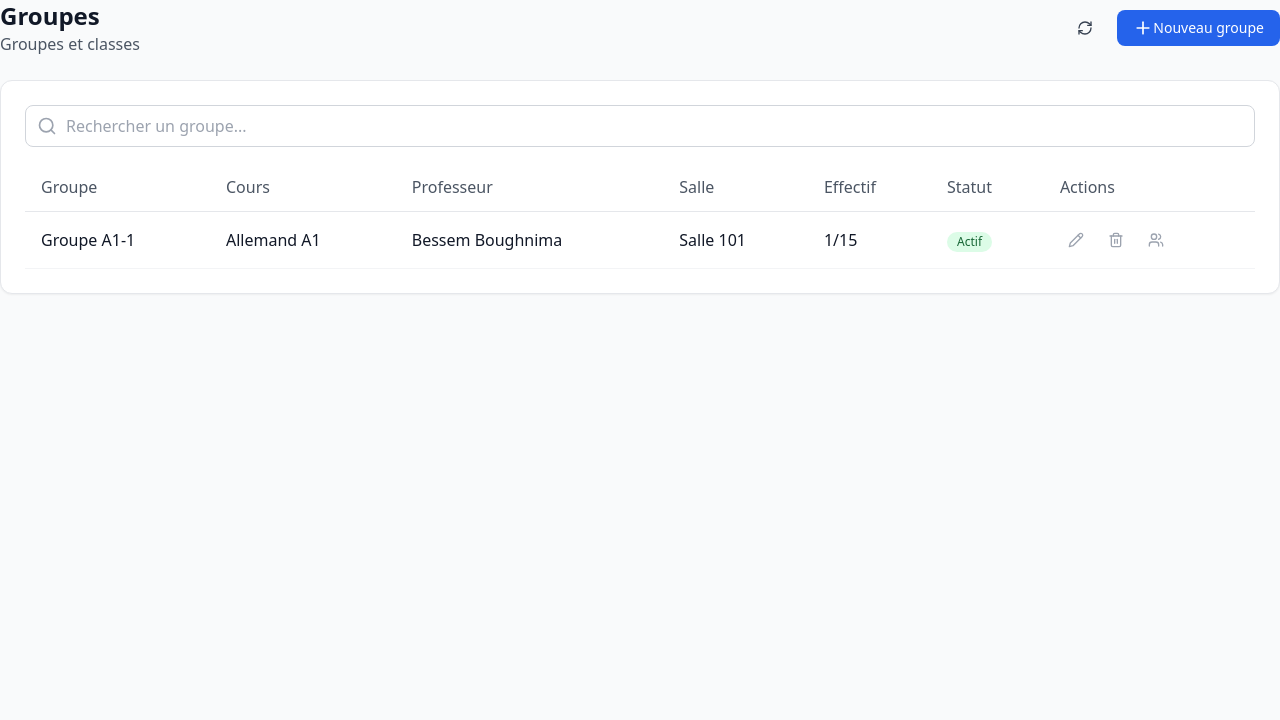
Test: Groups page — candidats du groupe › shows the server error when the group is full
The image size is (1280, 720).
Click the button named "Gérer les candidats du groupe Groupe A1-1" at (1156, 240), box x1=1140 y1=224 x2=1172 y2=256
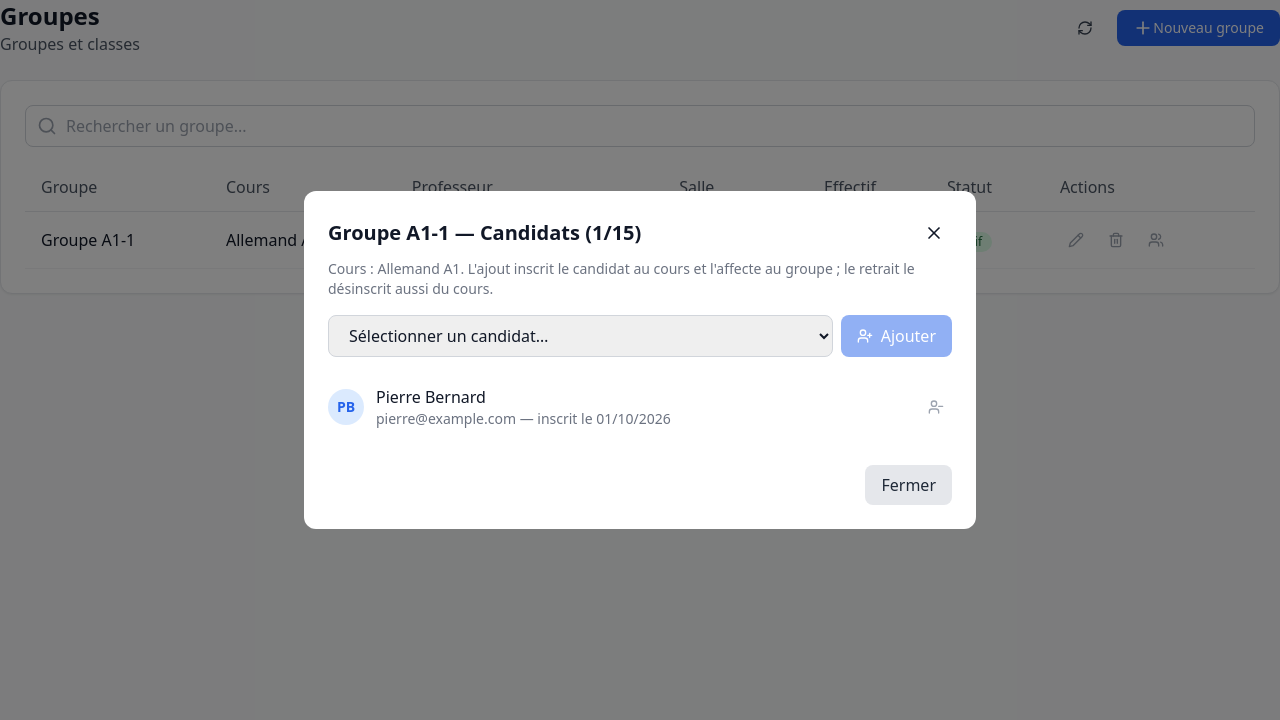
Select "Sophie Leroy — sophie@example.com" in the dropdown named "Candidat à ajouter" at (580, 336), box x1=328 y1=315 x2=833 y2=357
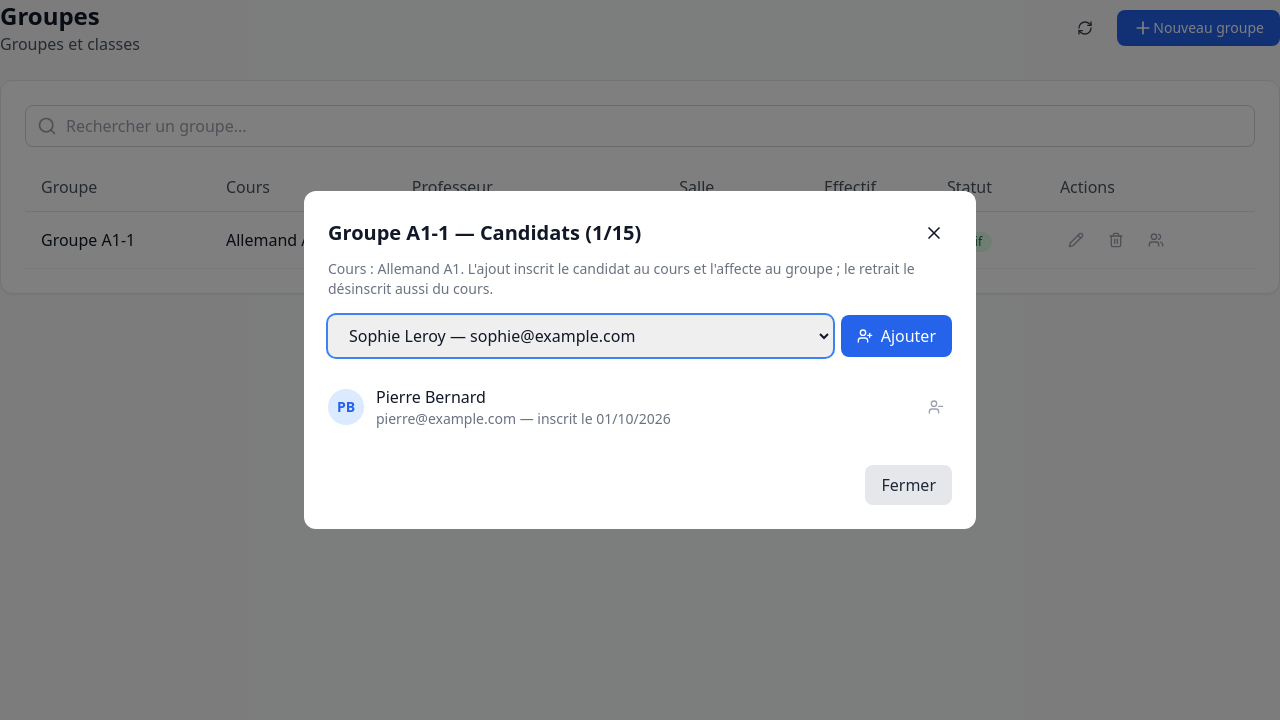
Click the button "Ajouter" at (896, 336), box x1=841 y1=315 x2=952 y2=357
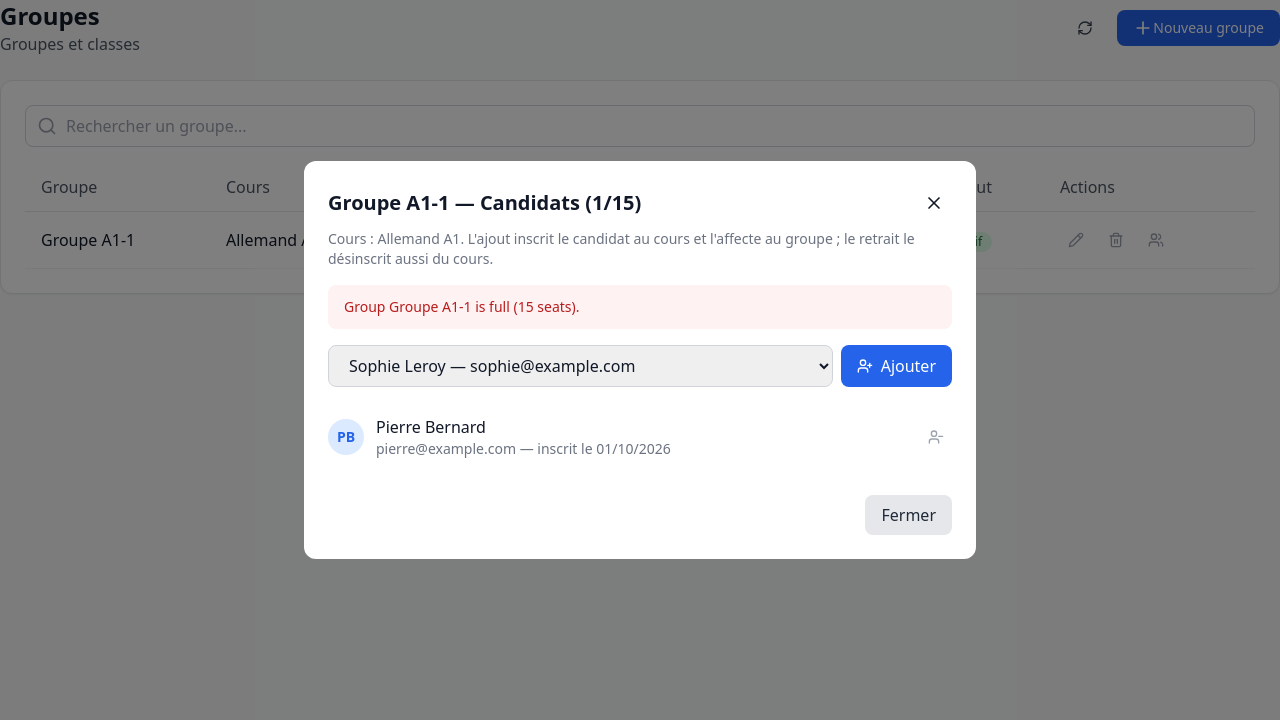
Expected: the text "Group Groupe A1-1 is full (15 seats)." is shown, x1=328 y1=285 x2=952 y2=329
